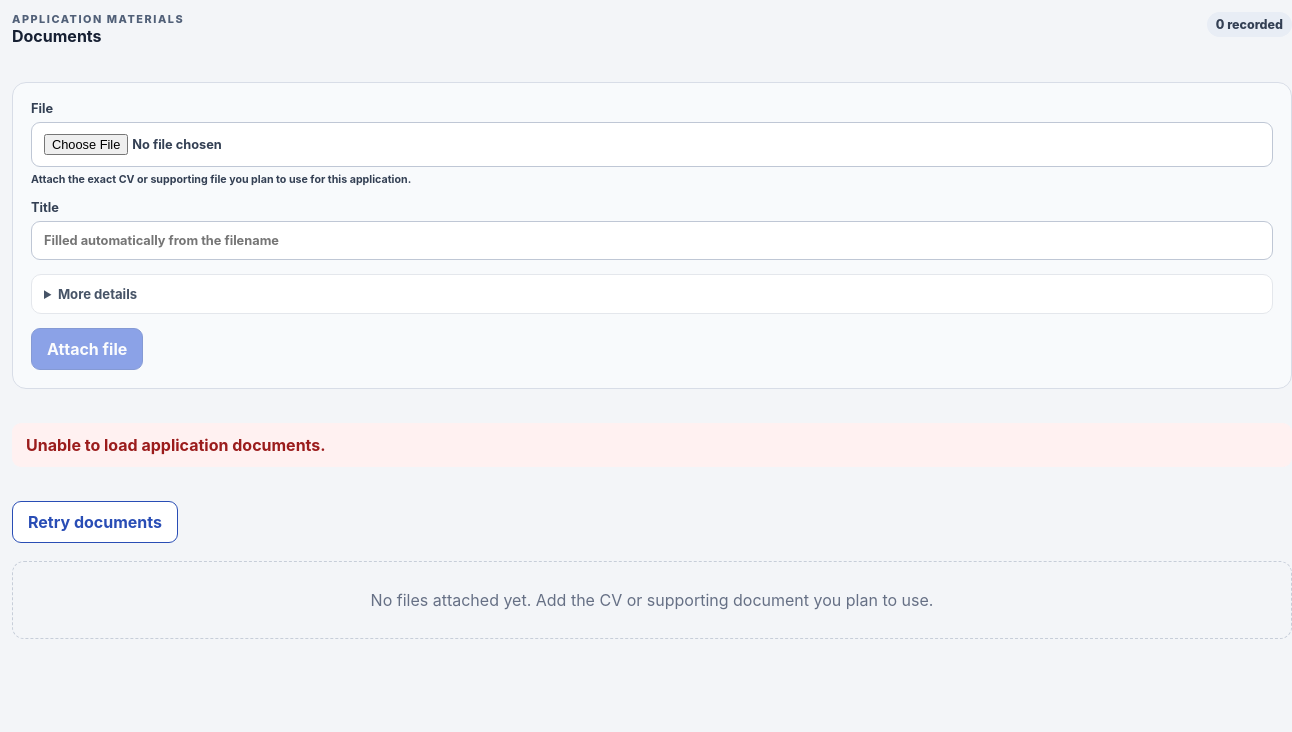
Test: ApplicationDocuments › retries an initial load failure
This screenshot has width=1292, height=732.
Expected: the message reads "Unable to load application documents.", [26,435,326,455]
Step 1. Click the button "Retry documents" → [95, 522], box [12,501,178,543]
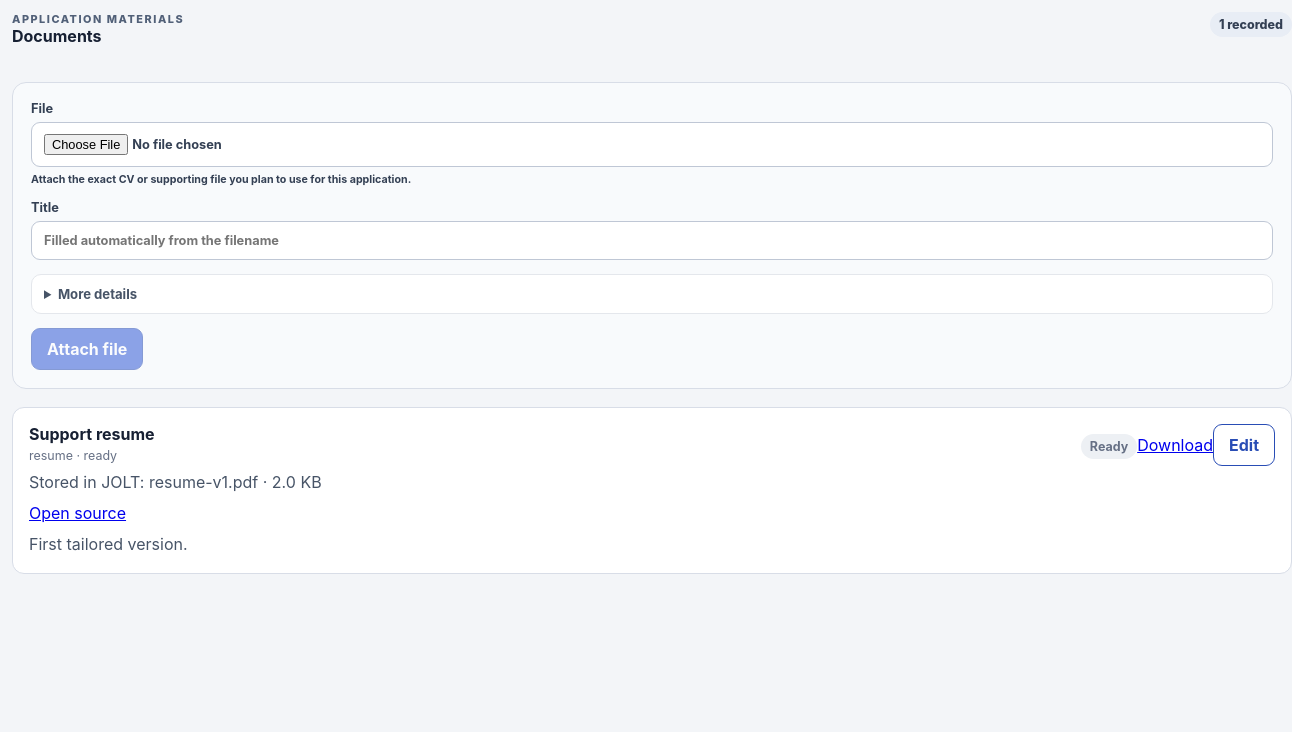
Expected: the text "Support resume" is shown, [29,424,155,444]
